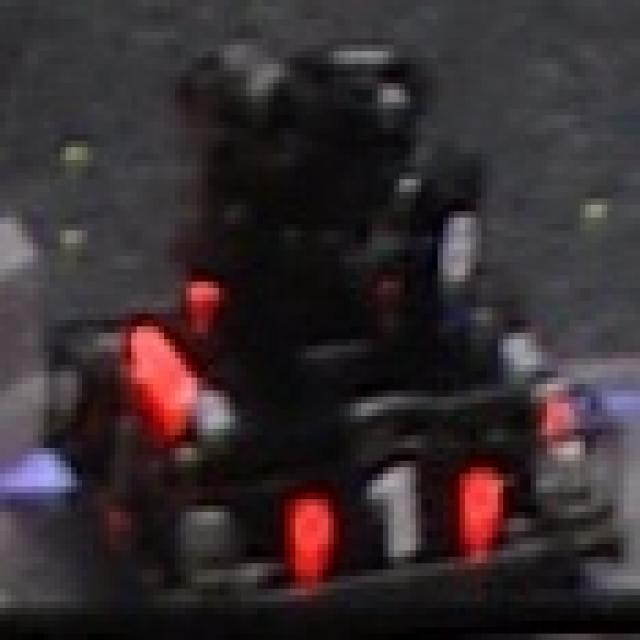R1: (274, 448, 514, 582)
